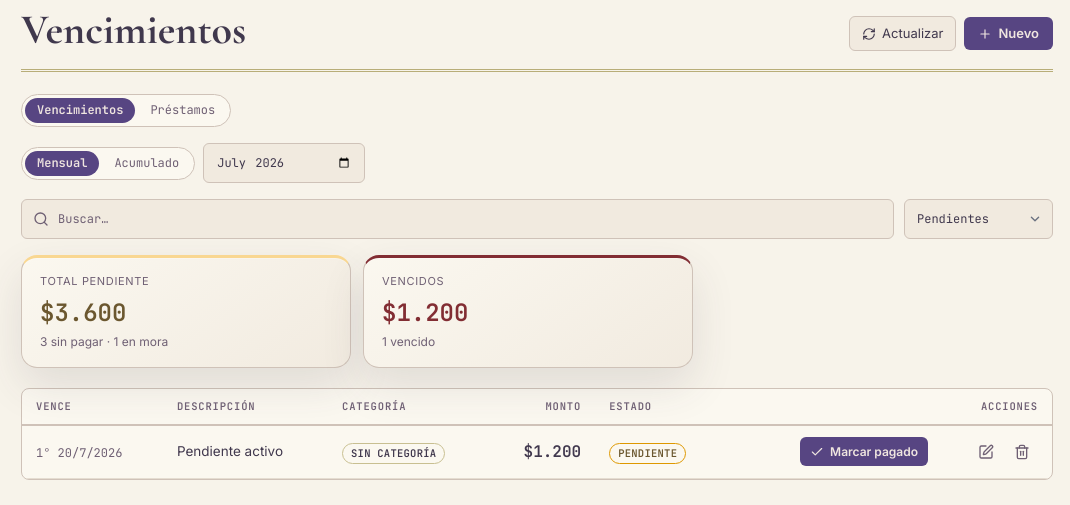
ModernPendingPaymentsView document actions › filters pending, en mora, vencidos, and paid by derived temporal status
The image size is (1070, 505).
Expected: the text "Pendiente activo" is shown, [163,425,328,478]
Expected: the text "Servicio en mora" is not shown
Select "En mora" in the dropdown named "filtrar vencimientos por estado" at coordinates (978, 219), box [904,199,1053,239]
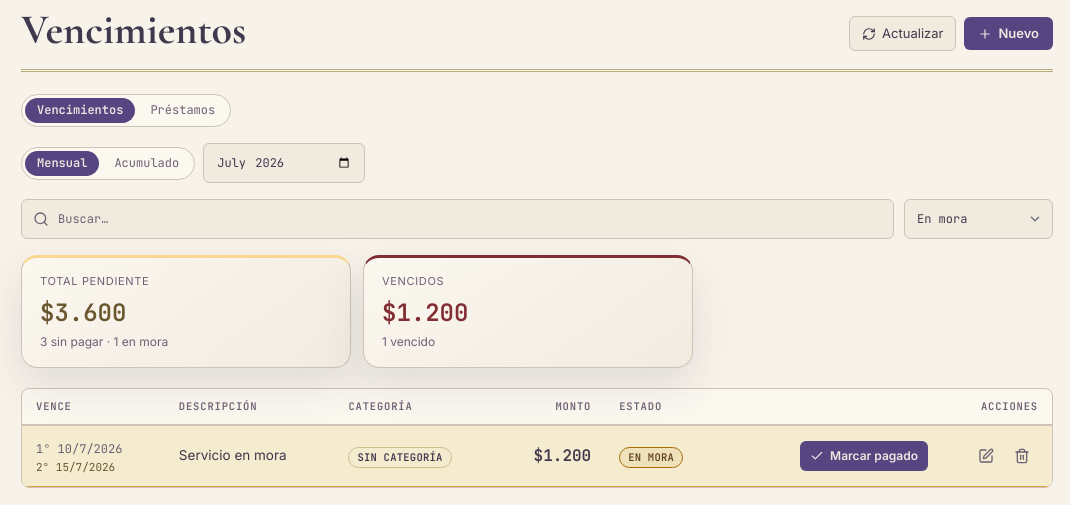
Expected: the text "Factura vencida" is not shown
Expected: the text "Servicio en mora" is shown, [165,425,334,486]
Select "Vencidos" in the dropdown named "filtrar vencimientos por estado" at coordinates (978, 219), box [904,199,1053,239]
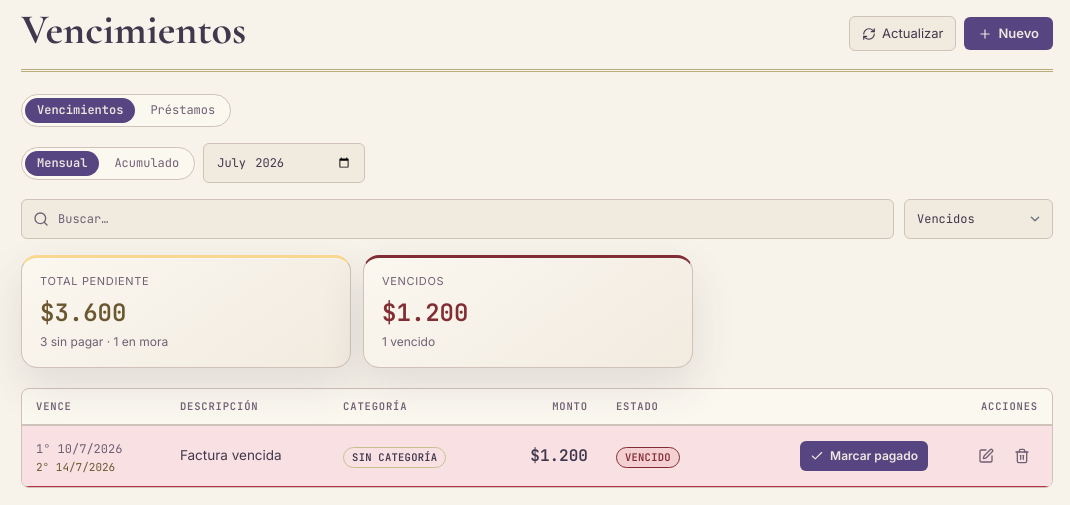
Expected: the text "Factura pagada" is not shown
Expected: the text "Factura vencida" is shown, [166,425,329,486]
Select "Pagados" in the dropdown named "filtrar vencimientos por estado" at coordinates (978, 219), box [904,199,1053,239]
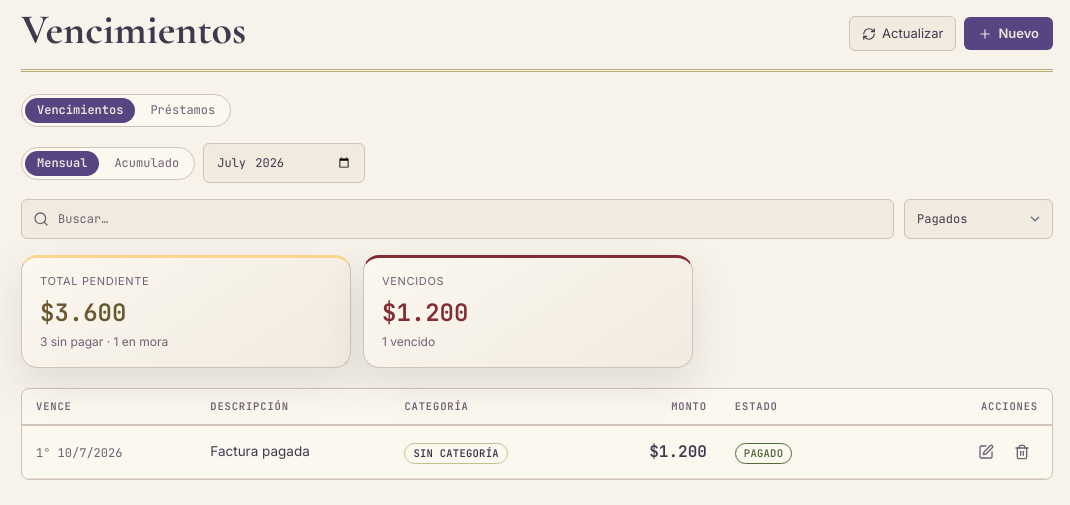
Expected: the text "Factura pagada" is shown, [196,425,390,478]
